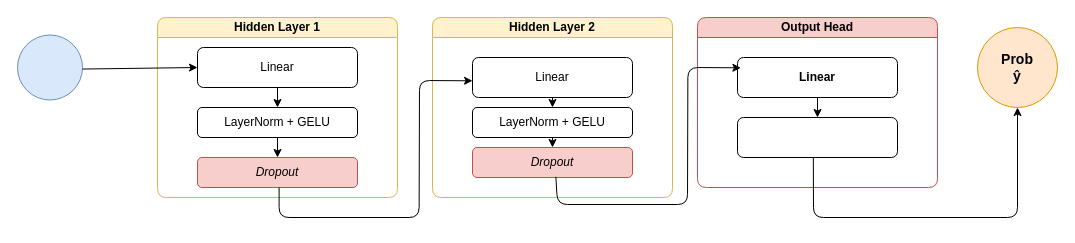
This 1075x243 diagram has some shape labels left out. The centre of each missing label's shape, as x and y in pixels:
Input: pixel 49 67
Sigmoid: pixel 817 137
